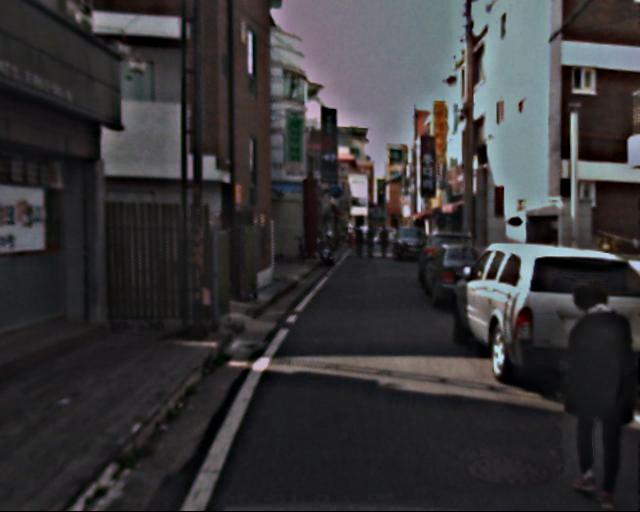person: (544, 283, 633, 501), (357, 227, 394, 265)
